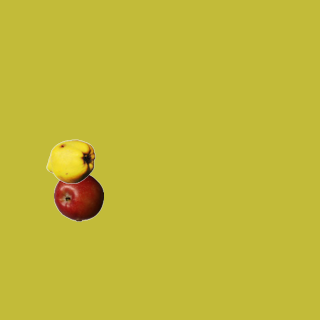Apple Braeburn: (53, 171, 103, 221)
Quince: (45, 136, 95, 186)
